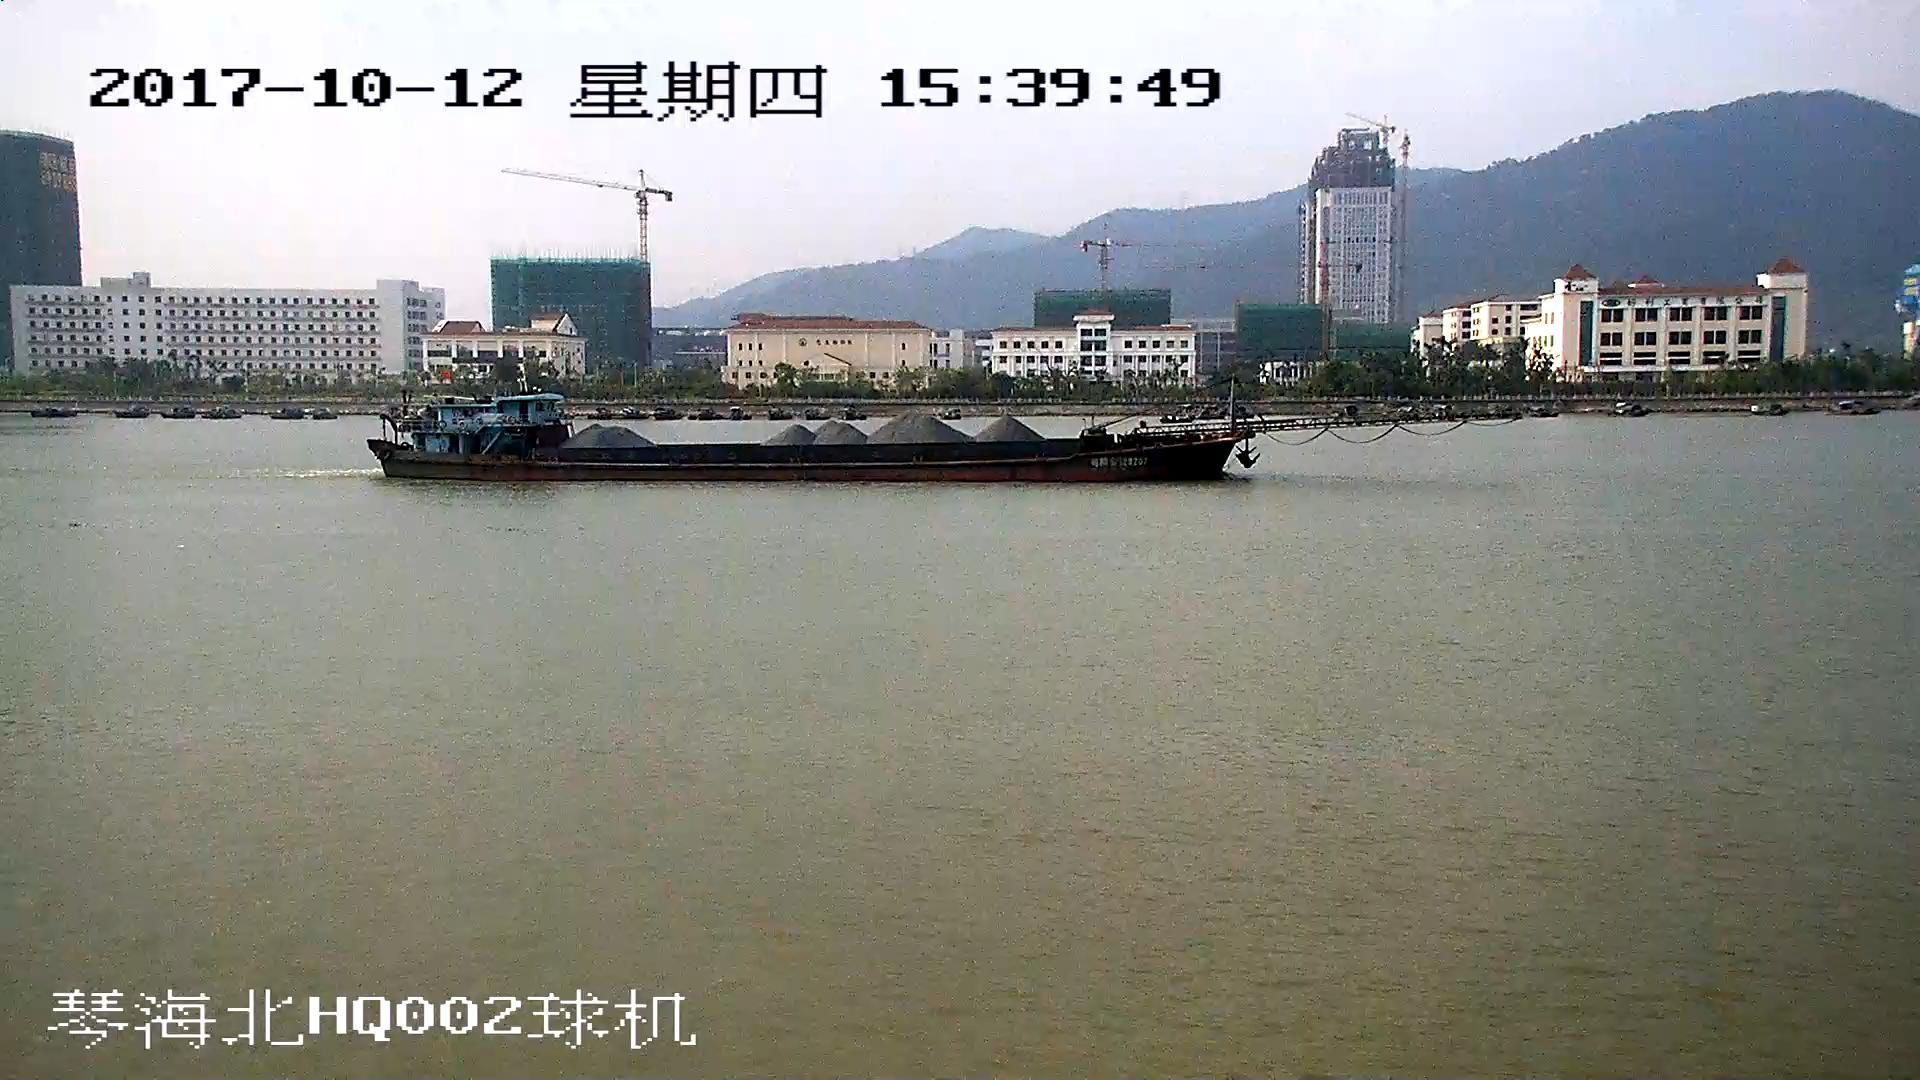ore carrier: (374, 376, 1420, 483)
